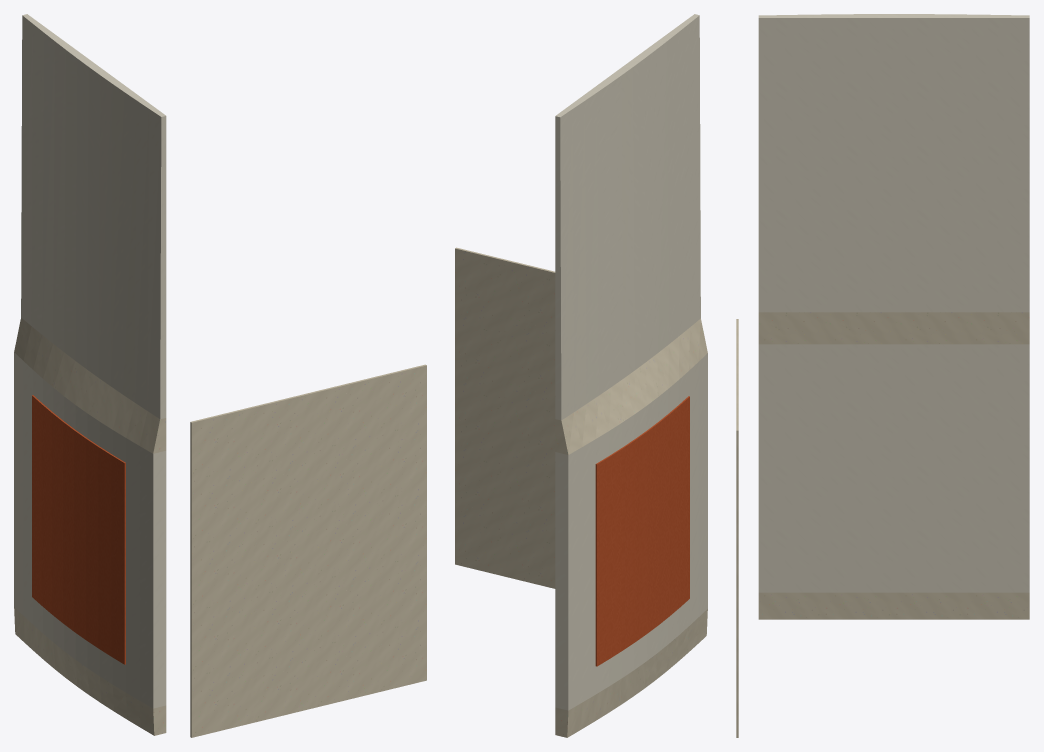
The model's file is AST-AQU-016_pool_lift_arrival_profile.glb.
3 renders of one model, left to right at view 1: azimuth 30°, elevation 25°; view 2: azimuth 150°, elevation 25°; view 3: azimuth 270°, elevation 25°, orthographic. The views are drawn at different scales.
Parts seen in each view (by area): view 1: EAST_Lift_AftMountingField, EAST_Lift_UpperContinuation, EAST_Lift_ConvexIvoryBody, EAST_Lift_TerracottaFace, EAST_Lift_TaperedShoulder, EAST_Lift_StoneFoot; view 2: EAST_Lift_UpperContinuation, EAST_Lift_AftMountingField, EAST_Lift_ConvexIvoryBody, EAST_Lift_TerracottaFace, EAST_Lift_TaperedShoulder, EAST_Lift_StoneFoot; view 3: EAST_Lift_UpperContinuation, EAST_Lift_ConvexIvoryBody, EAST_Lift_TaperedShoulder, EAST_Lift_StoneFoot, EAST_Lift_AftMountingField.
Part boxes in pixels (bbox=[...]): EAST_Lift_AftMountingField: bbox=[190, 364, 426, 737]; EAST_Lift_UpperContinuation: bbox=[21, 14, 166, 419]; EAST_Lift_ConvexIvoryBody: bbox=[14, 352, 166, 708]; EAST_Lift_TerracottaFace: bbox=[32, 395, 125, 664]; EAST_Lift_TaperedShoulder: bbox=[14, 318, 166, 453]; EAST_Lift_StoneFoot: bbox=[14, 607, 166, 735]; EAST_Lift_UpperContinuation: bbox=[555, 14, 700, 420]; EAST_Lift_AftMountingField: bbox=[455, 247, 555, 588]; EAST_Lift_ConvexIvoryBody: bbox=[555, 353, 707, 710]; EAST_Lift_TerracottaFace: bbox=[595, 396, 689, 666]; EAST_Lift_TaperedShoulder: bbox=[555, 318, 707, 454]; EAST_Lift_StoneFoot: bbox=[555, 609, 707, 737]; EAST_Lift_UpperContinuation: bbox=[758, 14, 1029, 312]; EAST_Lift_ConvexIvoryBody: bbox=[758, 344, 1029, 592]; EAST_Lift_TaperedShoulder: bbox=[758, 312, 1029, 344]; EAST_Lift_StoneFoot: bbox=[758, 592, 1029, 619]; EAST_Lift_AftMountingField: bbox=[736, 319, 738, 737].
Size of the model in its own units: 4.33 by 9.4 by 4.15.
Materials: 3 (3 with a texture image).
